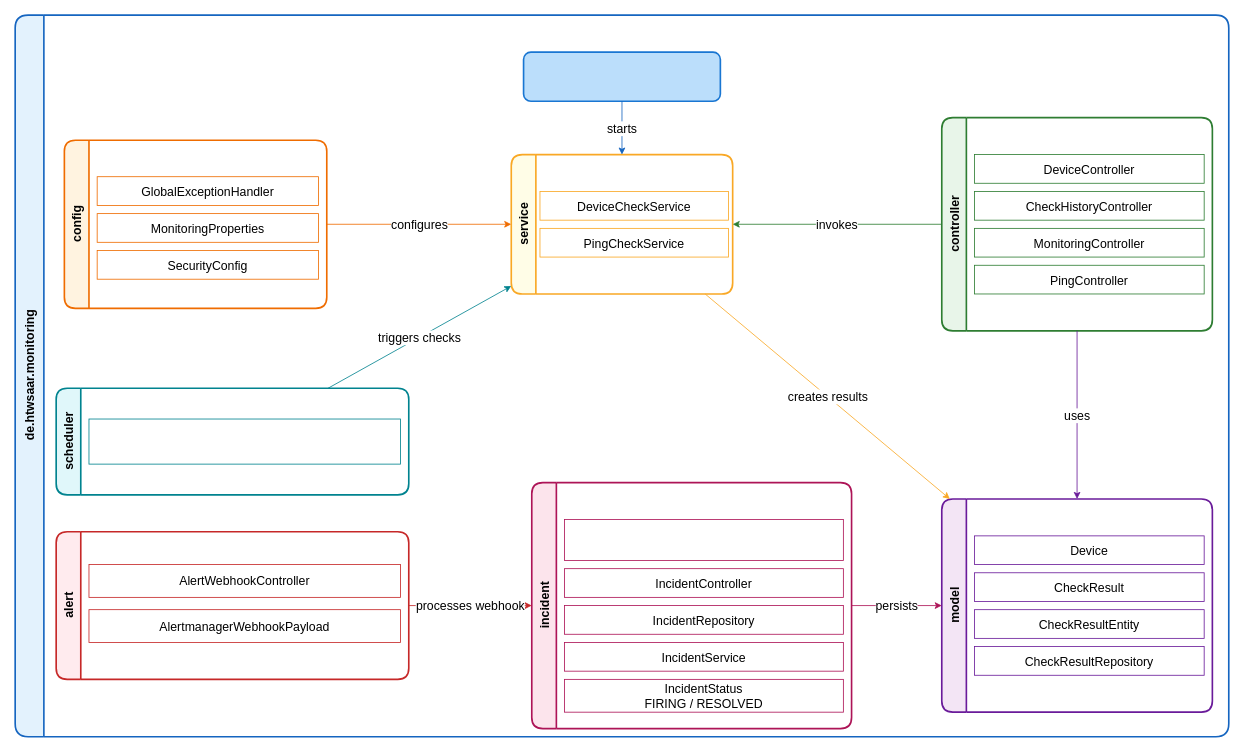
This 1243x751 diagram has some shape labels left out. Here are the shapes that lost their labels. From the top down, the centre of each, then its label:
the point at 621,76: Main.java Application entry point
the point at 244,441: MonitoringScheduler Triggers periodic checks
the point at 703,539: Incident Persistent incident entity
